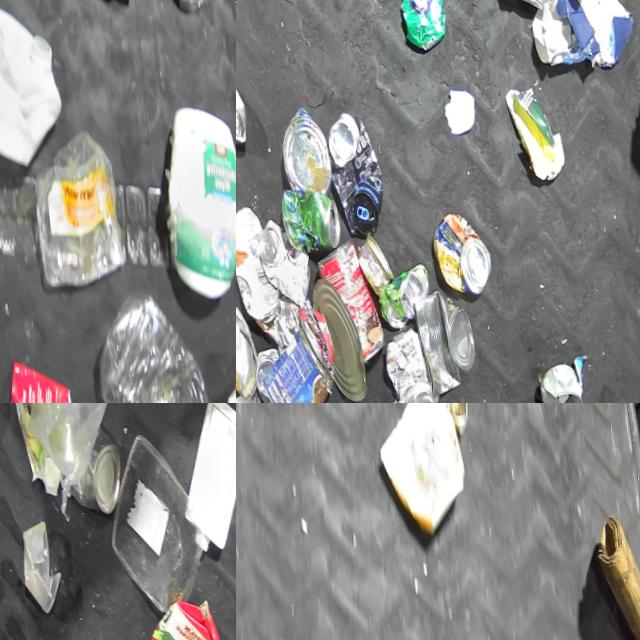can: (309, 232, 380, 360), (321, 105, 382, 232), (406, 281, 473, 394), (305, 274, 361, 399), (253, 319, 333, 403), (53, 416, 119, 509), (426, 203, 488, 288), (253, 214, 308, 305), (275, 100, 329, 190), (377, 318, 433, 403), (278, 183, 339, 251), (373, 253, 427, 326), (351, 228, 391, 292), (531, 353, 578, 403), (395, 0, 446, 45), (247, 342, 275, 403), (236, 299, 253, 399), (432, 403, 469, 428)
milk_jug: (167, 403, 236, 553), (0, 0, 62, 164)
non_white_jug: (119, 579, 220, 640)
plastic_bottle: (85, 275, 212, 403)
